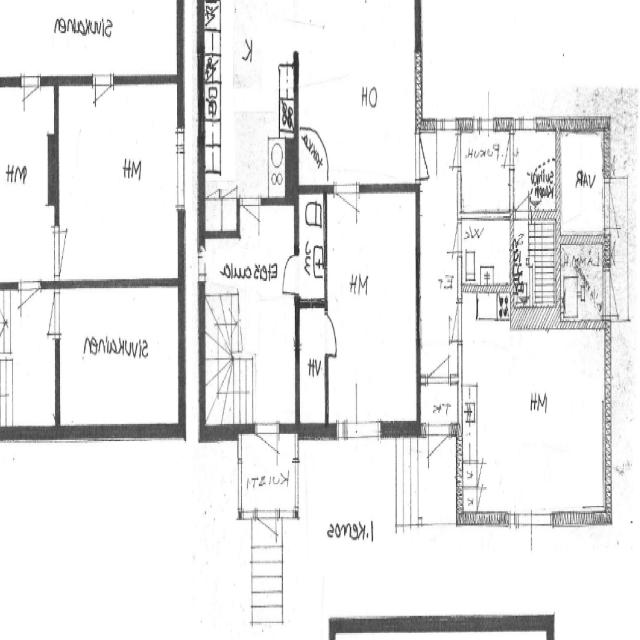door: (604, 183, 631, 230), (428, 328, 450, 384), (603, 271, 630, 316), (428, 428, 449, 484), (336, 184, 357, 240), (415, 135, 441, 180), (54, 232, 80, 277), (257, 428, 278, 482), (276, 254, 300, 296), (257, 512, 276, 563), (325, 315, 348, 357), (36, 294, 59, 336), (95, 77, 114, 126), (440, 304, 463, 342), (21, 282, 39, 330), (242, 198, 259, 244), (24, 77, 40, 123), (443, 135, 463, 169), (444, 223, 463, 254), (496, 134, 514, 166), (515, 181, 529, 220)
